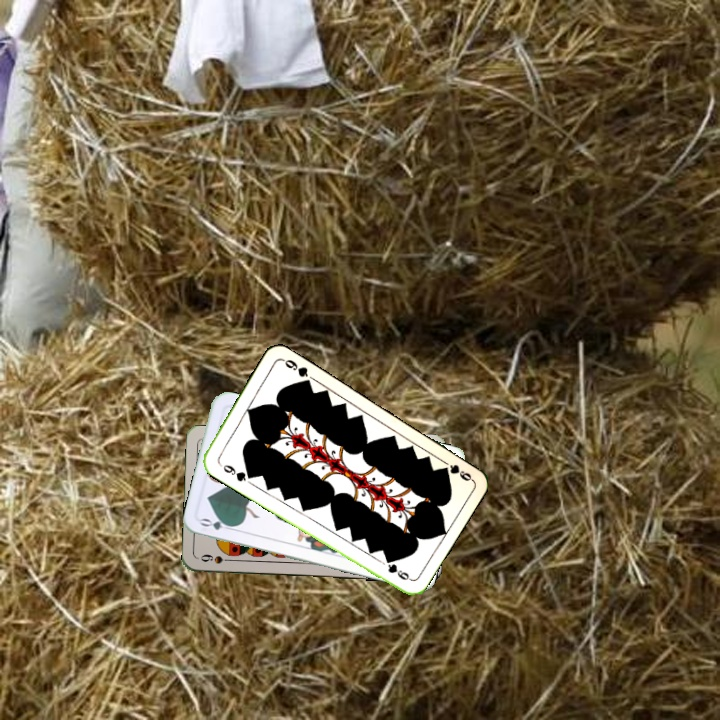G9: (215, 459, 253, 484), (439, 460, 474, 484)
GO: (196, 514, 238, 533)
S9: (196, 550, 237, 566)
